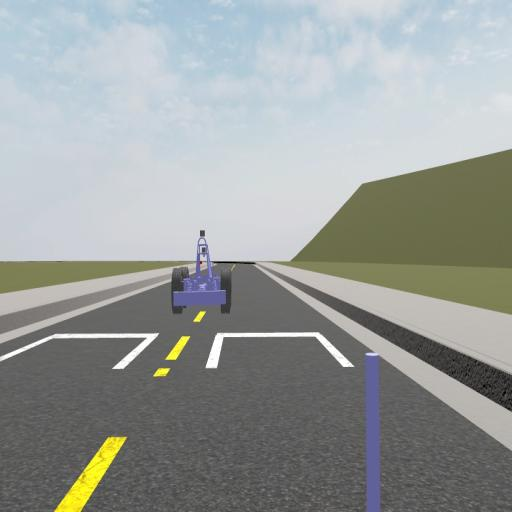ERP-42: (172, 228, 232, 314)
